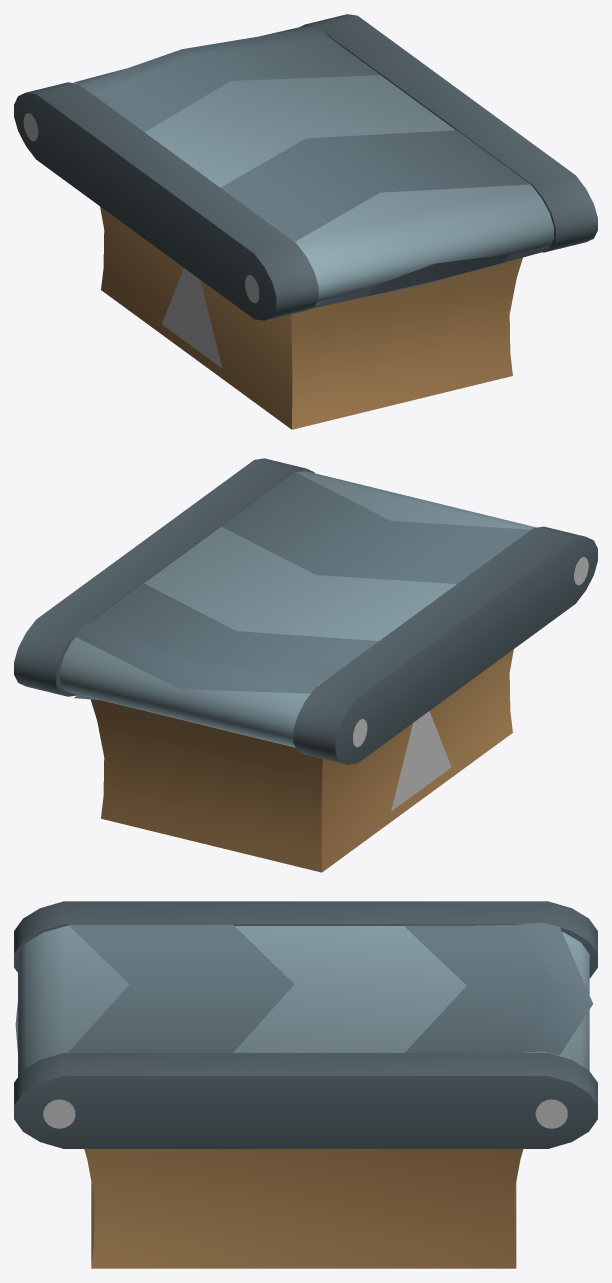
File: CintaPegatina.fbx
The picture shows the model from 3 angles, top to bottom: view 1: azimuth 30°, elevation 25°; view 2: azimuth 150°, elevation 25°; view 3: azimuth 270°, elevation 25°; orthographic projection. The views are drawn at different scales.
Visible parts, largest first — view 1: CintaPegatina; view 2: CintaPegatina; view 3: CintaPegatina.
Boxes of the visible parts, box(x1,y1,x2,y2) form: CintaPegatina: box(14, 14, 597, 429); CintaPegatina: box(14, 458, 597, 872); CintaPegatina: box(14, 901, 597, 1268).
Bounding box in the file's own units: 26.57 × 15.42 × 36.87.
